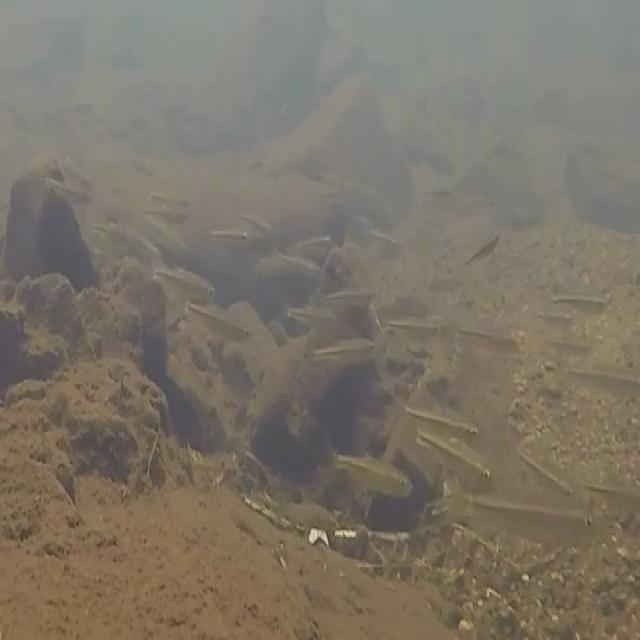Cakil Baligi: (446, 484, 597, 554), (326, 448, 414, 506), (182, 294, 252, 345)
